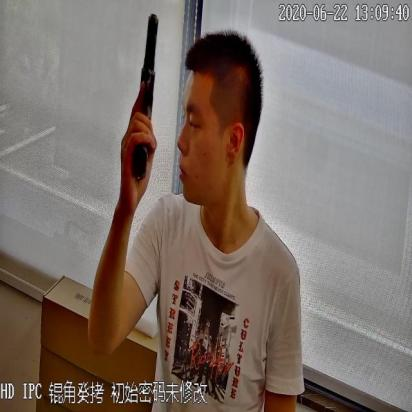Gun: (120, 4, 165, 192)
